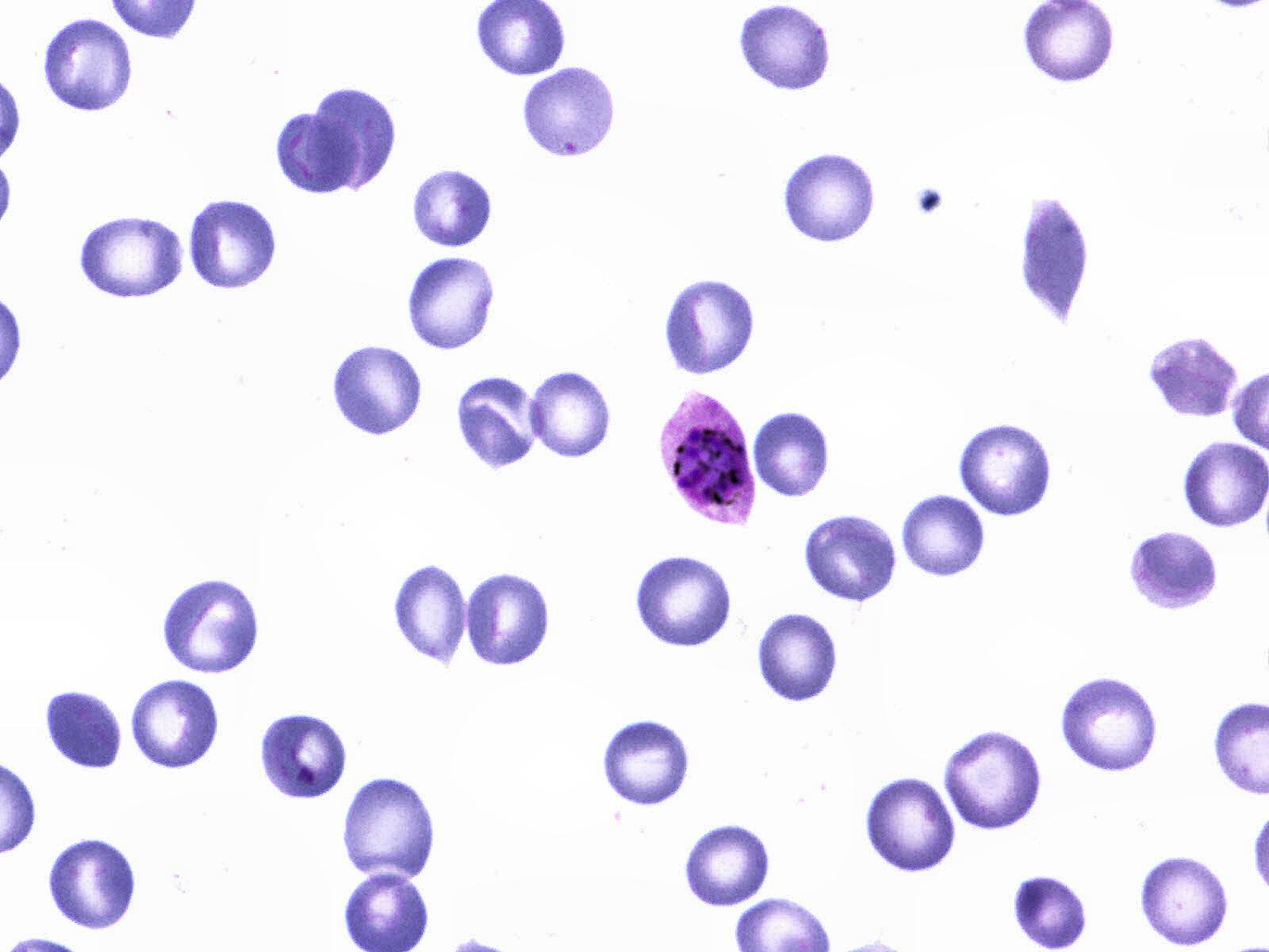Infected: (658, 387, 757, 530)
Uninfected: (947, 726, 1041, 839), (347, 774, 439, 889), (1059, 674, 1161, 773), (166, 577, 265, 677), (305, 83, 397, 189), (633, 555, 738, 647), (863, 775, 960, 873), (78, 213, 186, 301), (956, 424, 1056, 518), (666, 274, 757, 377), (462, 570, 553, 670), (128, 678, 224, 771), (523, 63, 615, 160), (39, 18, 132, 113), (601, 715, 693, 809), (1138, 857, 1233, 948), (411, 254, 499, 352), (784, 152, 878, 243), (457, 375, 545, 472), (332, 347, 427, 436), (1148, 332, 1243, 420), (259, 712, 352, 800), (1025, 196, 1088, 324), (806, 512, 895, 601), (187, 198, 275, 288), (528, 369, 617, 457), (51, 838, 136, 930), (683, 823, 775, 908), (742, 2, 829, 91), (1131, 526, 1222, 611), (757, 613, 842, 704), (1185, 440, 1269, 528), (275, 113, 366, 194), (903, 493, 989, 578), (392, 561, 462, 665), (45, 687, 123, 775), (412, 167, 493, 249), (757, 409, 829, 496), (1013, 871, 1089, 951)
